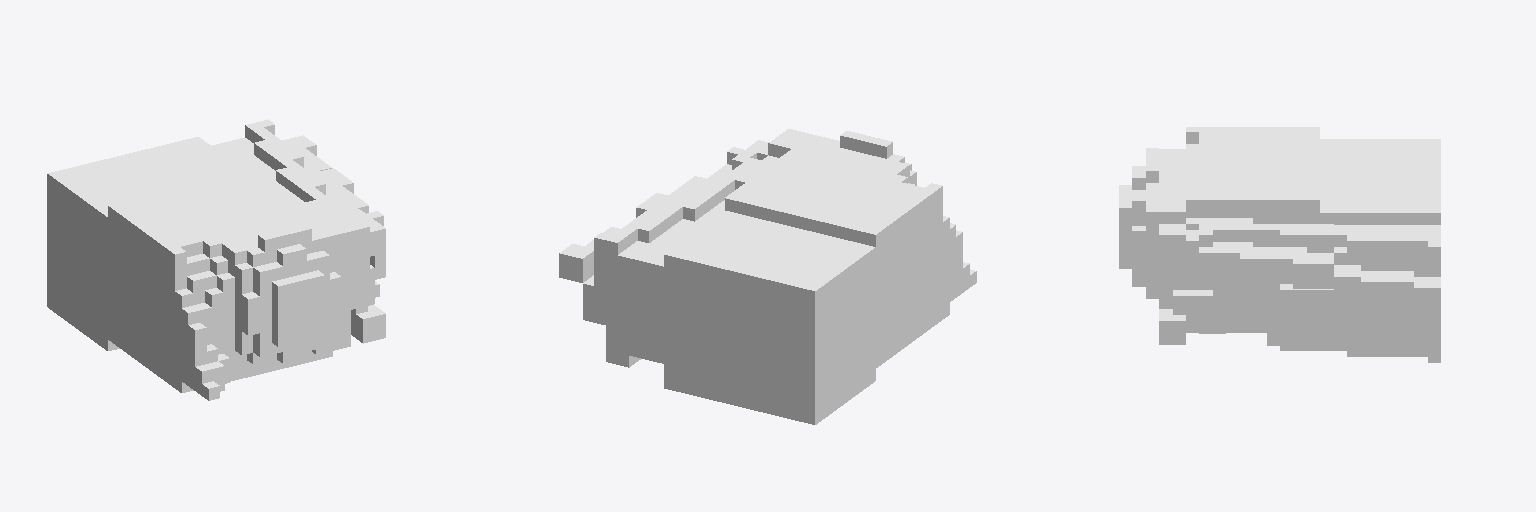
File: snow13.obj
3 renders of one model, left to right at view 1: azimuth 30°, elevation 25°; view 2: azimuth 150°, elevation 25°; view 3: azimuth 270°, elevation 25°, orthographic.
Parts seen in each view (by area): view 1: object 1; view 2: object 1; view 3: object 1.
Part boxes in pixels (left/top/right/bottom): object 1: left=47, top=119, right=385, bottom=400; object 1: left=559, top=129, right=976, bottom=424; object 1: left=1119, top=127, right=1440, bottom=362.
Size of the model in its own units: 2.2 by 1.3 by 2.4.